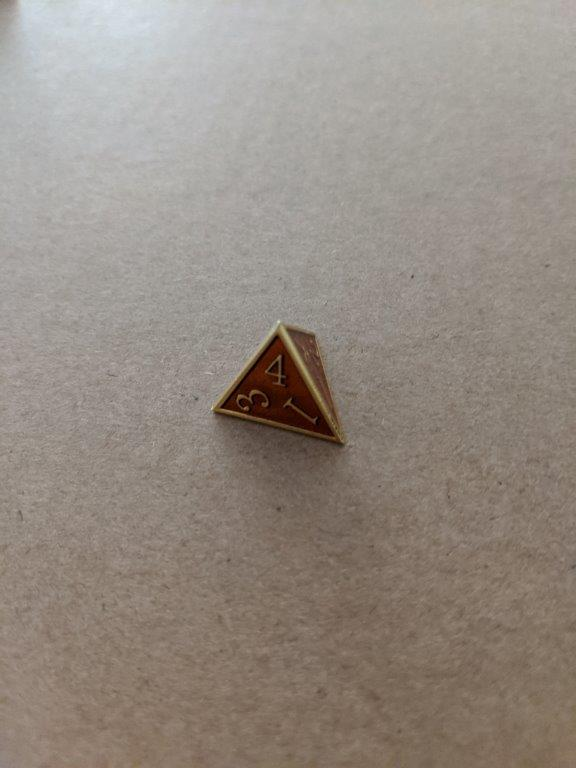d4-4: (210, 316, 348, 451)
